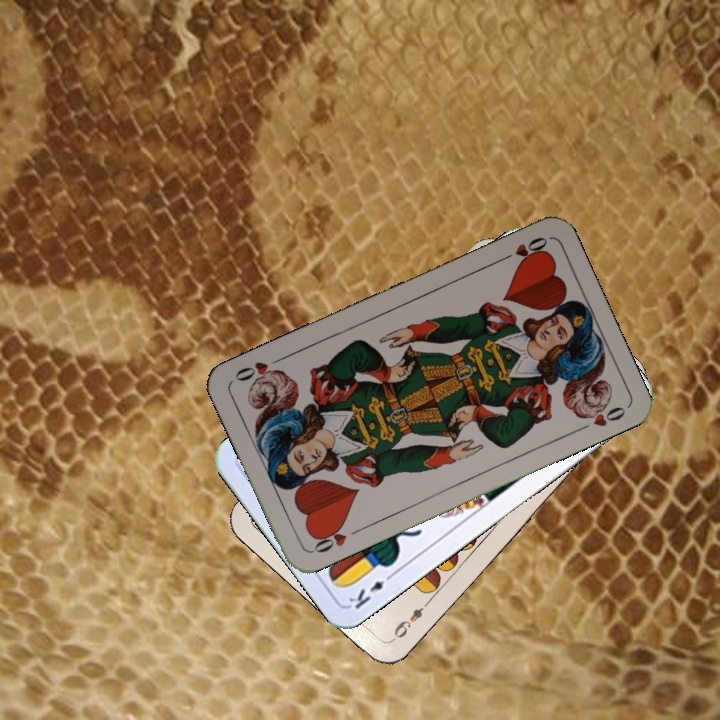E9: (388, 596, 433, 643)
EK: (344, 568, 398, 613)
HO: (308, 520, 364, 556), (494, 232, 551, 265)
